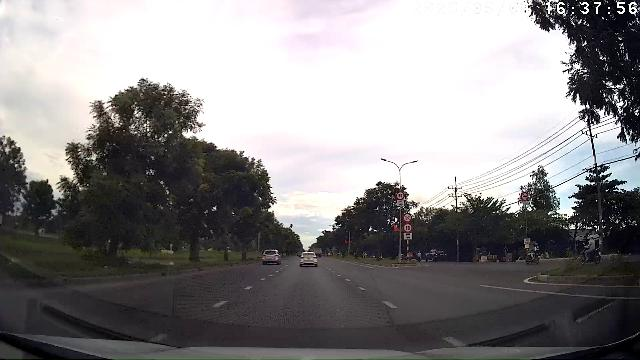127-toc-do-toi-da-60: (403, 223, 413, 233)
127-toc-do-toi-da-80: (396, 191, 405, 200)
